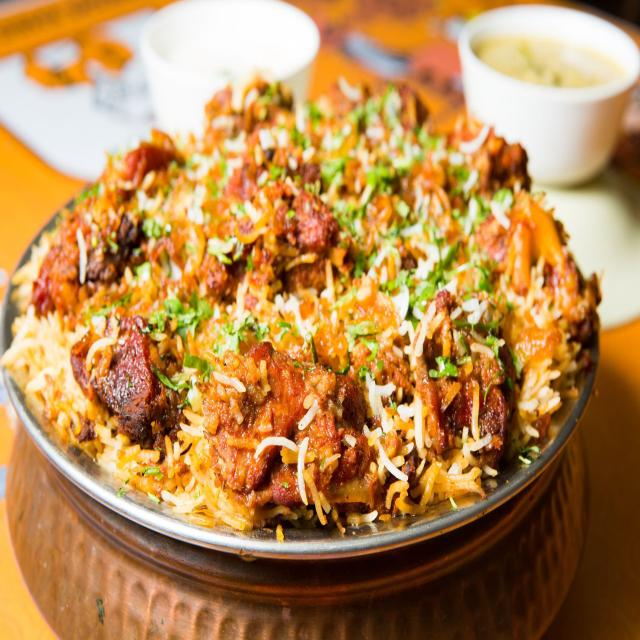chicken biryani: (72, 178, 536, 498)
